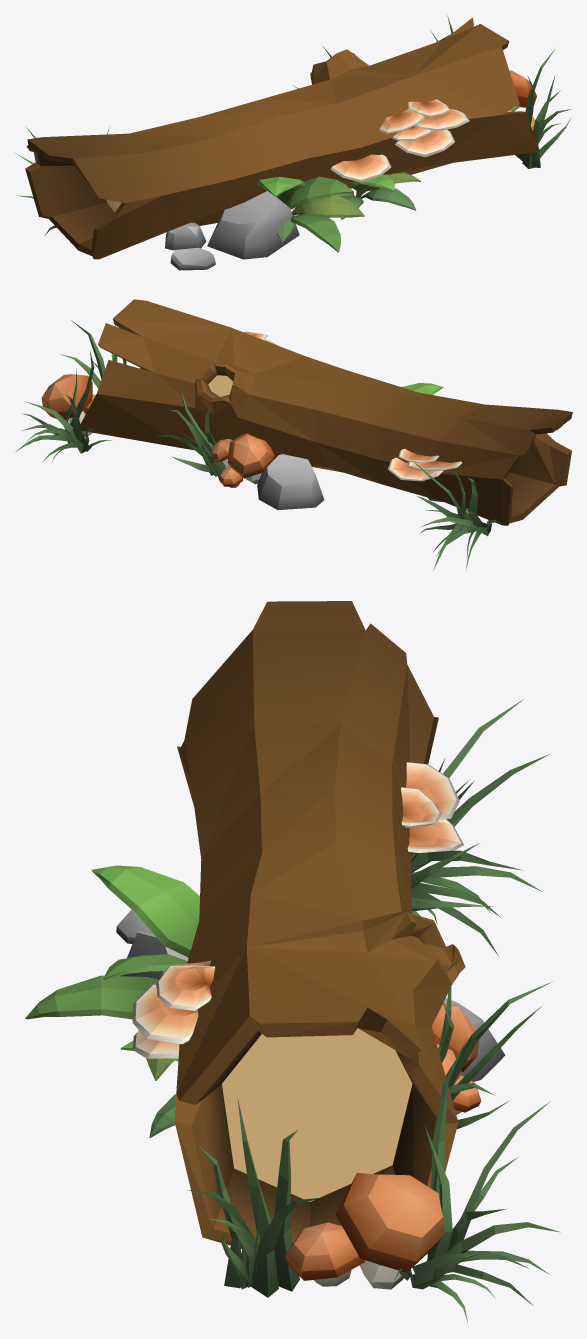
Rendered from TreeLog_A-03.FBX.
The picture shows the model from 3 angles, top to bottom: view 1: azimuth 30°, elevation 25°; view 2: azimuth 150°, elevation 25°; view 3: azimuth 270°, elevation 25°; orthographic projection. The views are drawn at different scales.
Parts seen in each view (by area): view 1: TreeLog_A-03; view 2: TreeLog_A-03; view 3: TreeLog_A-03.
Part boxes in pixels (x1,y1,x2,y2): TreeLog_A-03: [15, 15, 571, 270]; TreeLog_A-03: [16, 299, 572, 570]; TreeLog_A-03: [25, 601, 560, 1322].
Size of the model in its own units: 345 by 93.71 by 160.
1 material, 1 textured.
